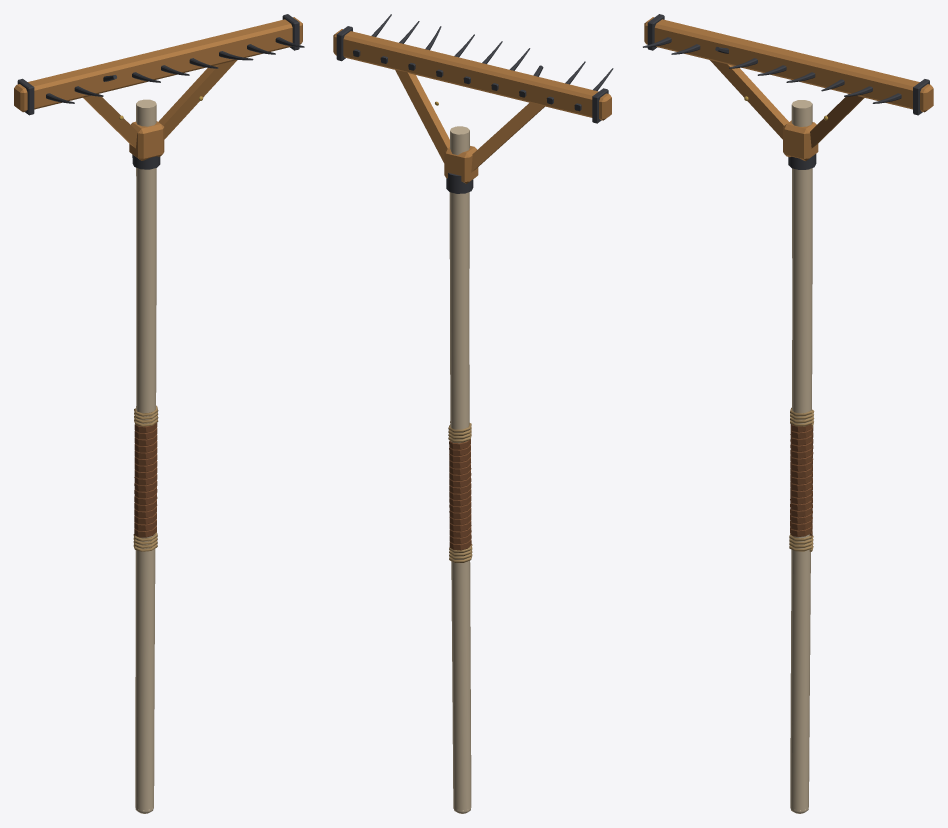
The model's file is tool_rake.fbx.
3 views of the same model, side by side, from view 1: azimuth 30°, elevation 25°; view 2: azimuth 150°, elevation 25°; view 3: azimuth 330°, elevation 25° (orthographic). The views are drawn at different scales.
Visible parts, largest first — view 1: Tool_Rake_Head, Tool_Rake_Shaft, Tool_Rake_Wrap, Tool_Rake_Tines; view 2: Tool_Rake_Head, Tool_Rake_Shaft, Tool_Rake_Wrap, Tool_Rake_Tines; view 3: Tool_Rake_Head, Tool_Rake_Shaft, Tool_Rake_Wrap, Tool_Rake_Tines.
Boxes of the visible parts, <box> form: Tool_Rake_Head: <box>14,14,302,160</box>; Tool_Rake_Shaft: <box>135,99,156,813</box>; Tool_Rake_Wrap: <box>133,405,158,551</box>; Tool_Rake_Tines: <box>46,37,304,103</box>; Tool_Rake_Head: <box>333,26,611,183</box>; Tool_Rake_Shaft: <box>449,126,471,813</box>; Tool_Rake_Wrap: <box>448,421,472,562</box>; Tool_Rake_Tines: <box>353,14,613,111</box>; Tool_Rake_Head: <box>644,14,933,160</box>; Tool_Rake_Shaft: <box>790,100,812,813</box>; Tool_Rake_Wrap: <box>789,407,814,551</box>; Tool_Rake_Tines: <box>643,37,901,103</box>.
Size of the model in its own units: 64 by 167 by 19.67.
